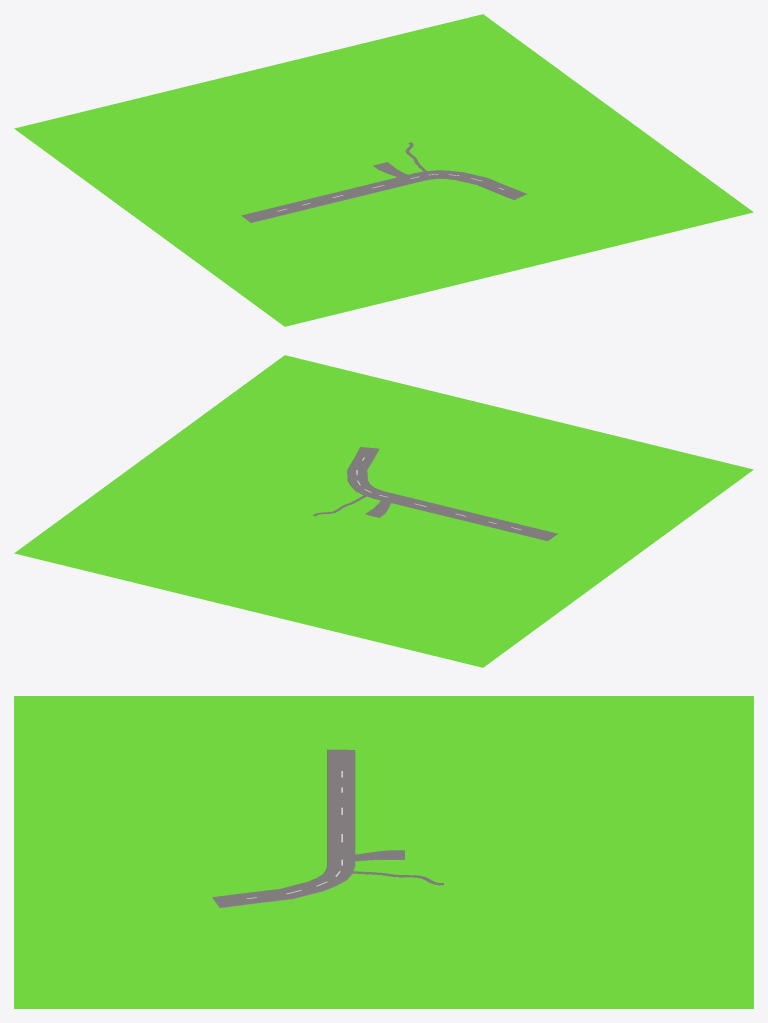
Rendered from cartoon_ground.glb.
3 renders of one model, top to bottom at view 1: azimuth 30°, elevation 25°; view 2: azimuth 150°, elevation 25°; view 3: azimuth 270°, elevation 25°, orthographic. The views are drawn at different scales.
Visible parts, largest first — view 1: Cube.010, Plane.085; view 2: Cube.010, Plane.085; view 3: Cube.010, Plane.085.
Boxes of the visible parts, left/top/right/bottom form: Cube.010: left=14, top=14, right=753, bottom=326; Plane.085: left=241, top=162, right=526, bottom=222; Cube.010: left=14, top=355, right=753, bottom=667; Plane.085: left=347, top=447, right=557, bottom=540; Cube.010: left=14, top=696, right=753, bottom=1008; Plane.085: left=212, top=749, right=404, bottom=908.
Size of the model in its own units: 283 by 0.3403 by 283.
